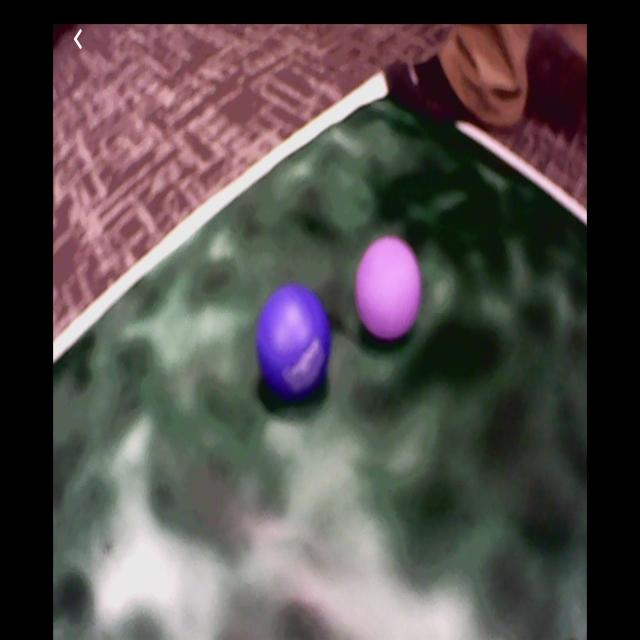ball: (255, 282, 332, 398), (355, 237, 423, 340)
